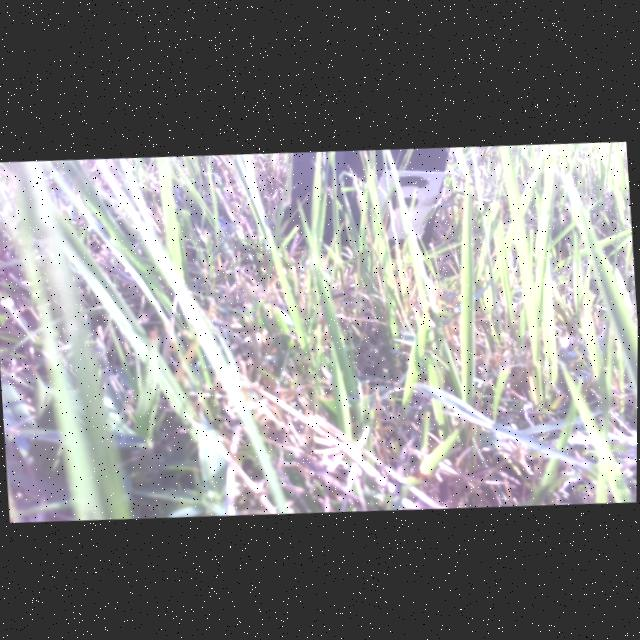F: (382, 173, 428, 228)
